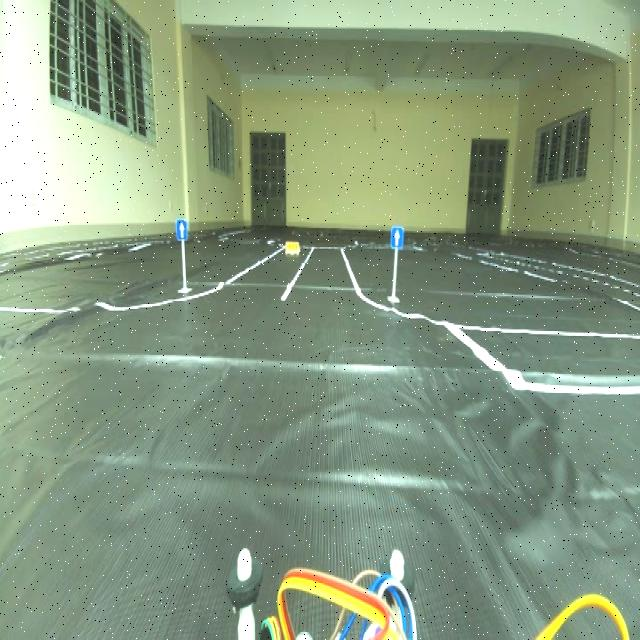onewayroad: (176, 214, 193, 244), (389, 219, 404, 250)
roadblock: (285, 236, 304, 266)
